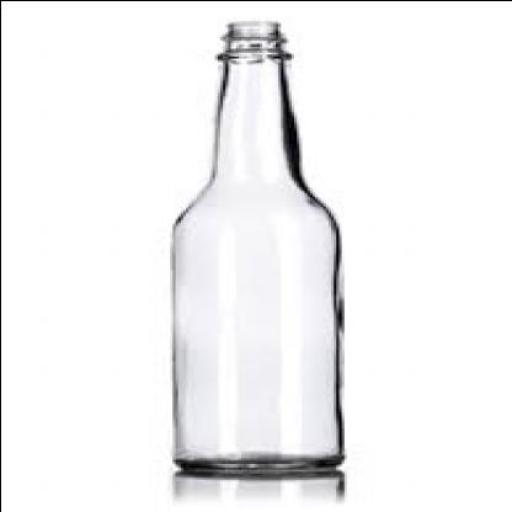glass: (174, 20, 343, 470)
